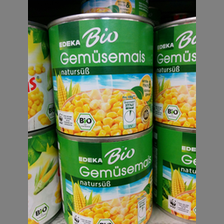corn: (47, 13, 155, 136), (56, 132, 155, 224), (154, 17, 196, 129), (153, 127, 197, 224)
